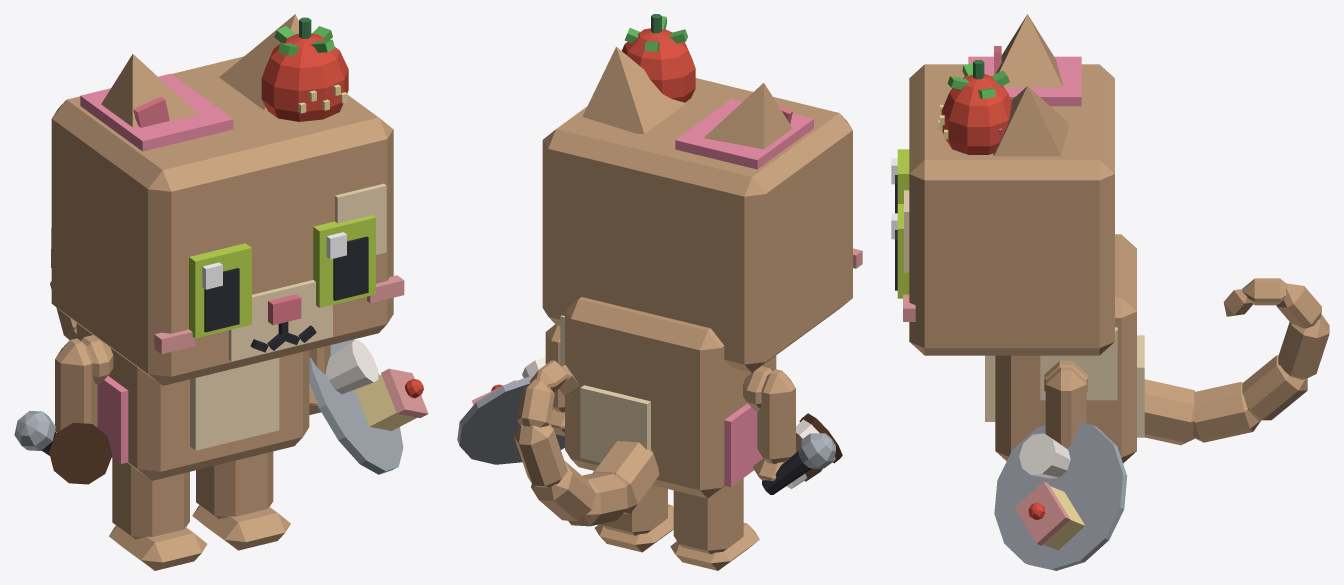
The model's file is CatCafe_Cat_Cream_Work.glb.
3 renders of one model, left to right at view 1: azimuth 30°, elevation 25°; view 2: azimuth 150°, elevation 25°; view 3: azimuth 270°, elevation 25°, orthographic. The views are drawn at different scales.
Visible parts, largest first — view 1: CatCafe_Cat_Cream_Work_Head, CatCafe_Cat_Cream_Work_Body, CatCafe_Cat_Cream_Work_Held_Waiter, CatCafe_Cat_Cream_Work_LegB2, CatCafe_Cat_Cream_Work_Prop, CatCafe_Cat_Cream_Work_LegB1, CatCafe_Cat_Cream_Work_Eye2, CatCafe_Cat_Cream_Work_Eye1, CatCafe_Cat_Cream_Work_EarR, CatCafe_Cat_Cream_Work_LegF2, CatCafe_Cat_Cream_Work_Held_Barista, CatCafe_Cat_Cream_Work_EarL (+2 smaller); view 2: CatCafe_Cat_Cream_Work_Head, CatCafe_Cat_Cream_Work_Body, CatCafe_Cat_Cream_Work_Tail, CatCafe_Cat_Cream_Work_LegB2, CatCafe_Cat_Cream_Work_EarL, CatCafe_Cat_Cream_Work_Held_Waiter, CatCafe_Cat_Cream_Work_Prop, CatCafe_Cat_Cream_Work_LegF2, CatCafe_Cat_Cream_Work_EarR, CatCafe_Cat_Cream_Work_LegB1, CatCafe_Cat_Cream_Work_Held_Entertainer, CatCafe_Cat_Cream_Work_LegF1 (+1 smaller); view 3: CatCafe_Cat_Cream_Work_Head, CatCafe_Cat_Cream_Work_Held_Waiter, CatCafe_Cat_Cream_Work_Body, CatCafe_Cat_Cream_Work_Tail, CatCafe_Cat_Cream_Work_Prop, CatCafe_Cat_Cream_Work_EarL, CatCafe_Cat_Cream_Work_EarR, CatCafe_Cat_Cream_Work_LegF1, CatCafe_Cat_Cream_Work_Eye1, CatCafe_Cat_Cream_Work_Eye2.
Boxes of the visible parts, x1,y1,x2,y2 form: CatCafe_Cat_Cream_Work_Head: (51,56,404,385); CatCafe_Cat_Cream_Work_Body: (76,323,309,480); CatCafe_Cat_Cream_Work_Held_Waiter: (309,339,428,474); CatCafe_Cat_Cream_Work_LegB2: (109,458,207,570); CatCafe_Cat_Cream_Work_Prop: (261,17,348,121); CatCafe_Cat_Cream_Work_LegB1: (192,451,290,550); CatCafe_Cat_Cream_Work_Eye2: (189,243,251,338); CatCafe_Cat_Cream_Work_Eye1: (313,215,375,307); CatCafe_Cat_Cream_Work_EarR: (101,54,198,127); CatCafe_Cat_Cream_Work_LegF2: (55,338,97,432); CatCafe_Cat_Cream_Work_Held_Barista: (49,422,112,484); CatCafe_Cat_Cream_Work_EarL: (219,14,298,110); CatCafe_Cat_Cream_Work_Head: (542,78,862,372); CatCafe_Cat_Cream_Work_Body: (560,297,776,498); CatCafe_Cat_Cream_Work_Tail: (513,360,659,526); CatCafe_Cat_Cream_Work_LegB2: (670,478,759,570); CatCafe_Cat_Cream_Work_EarL: (582,46,684,133); CatCafe_Cat_Cream_Work_Held_Waiter: (457,357,564,464); CatCafe_Cat_Cream_Work_Prop: (621,14,695,102); CatCafe_Cat_Cream_Work_LegF2: (753,369,795,481); CatCafe_Cat_Cream_Work_EarR: (703,83,792,149); CatCafe_Cat_Cream_Work_LegB1: (594,485,673,552); CatCafe_Cat_Cream_Work_Held_Entertainer: (762,433,835,494); CatCafe_Cat_Cream_Work_LegF1: (545,324,564,436); CatCafe_Cat_Cream_Work_Head: (903,56,1114,355); CatCafe_Cat_Cream_Work_Held_Waiter: (994,422,1127,570); CatCafe_Cat_Cream_Work_Body: (985,234,1144,463); CatCafe_Cat_Cream_Work_Tail: (1144,278,1329,445); CatCafe_Cat_Cream_Work_Prop: (938,60,1011,154); CatCafe_Cat_Cream_Work_EarL: (993,86,1068,156); CatCafe_Cat_Cream_Work_EarR: (994,14,1063,87); CatCafe_Cat_Cream_Work_LegF1: (1045,367,1086,448); CatCafe_Cat_Cream_Work_Eye1: (891,204,909,298); CatCafe_Cat_Cream_Work_Eye2: (891,149,909,213).
Size of the model in its own units: 1.53 by 1.99 by 1.62.
1 material, 1 textured.
